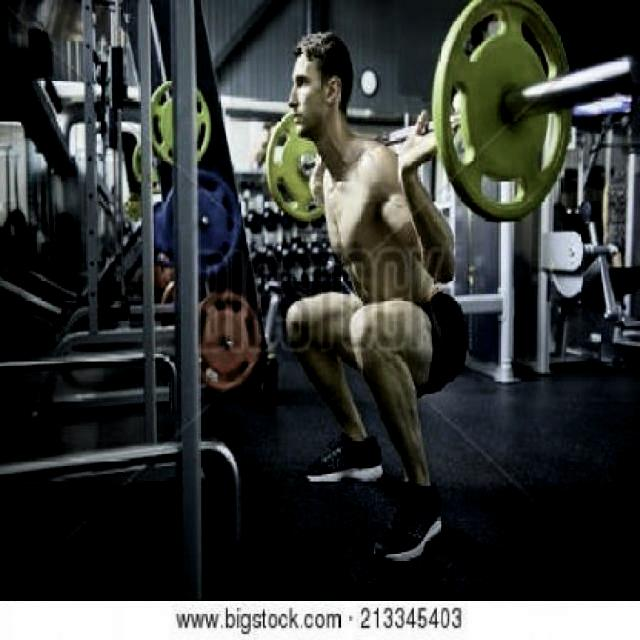barbell: (427, 1, 640, 227)
